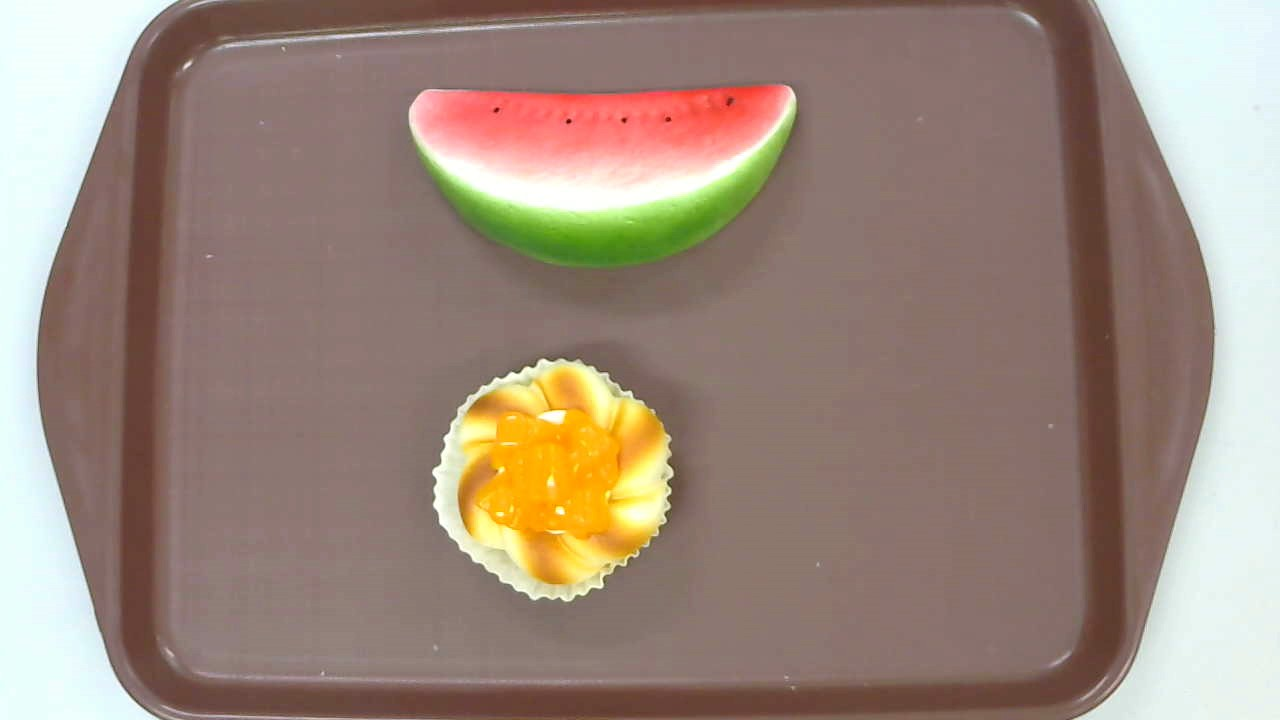mango tart: (429, 359, 676, 603)
water melon: (408, 84, 797, 270)
